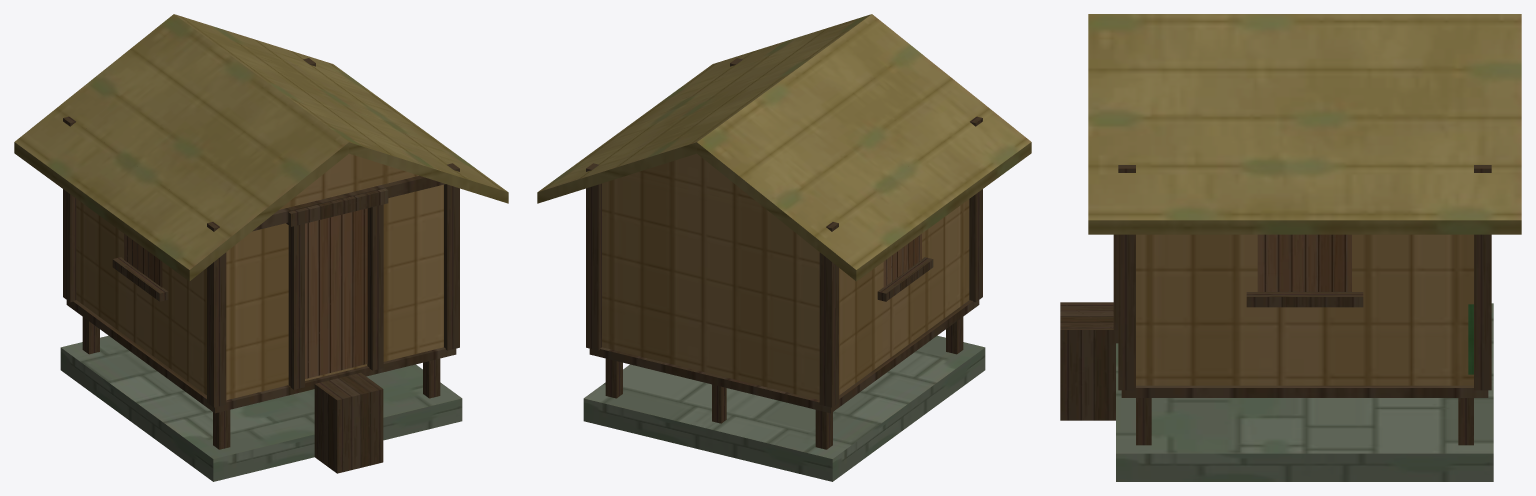
Rendered from ae_jungle_wood_small_hut_lod0.glb.
3 views of the same model, side by side, from view 1: azimuth 30°, elevation 25°; view 2: azimuth 150°, elevation 25°; view 3: azimuth 270°, elevation 25° (orthographic). The views are drawn at different scales.
Parts seen in each view (by area): view 1: ae_jungle_wood_small_hut_lod0; view 2: ae_jungle_wood_small_hut_lod0; view 3: ae_jungle_wood_small_hut_lod0.
Boxes of the visible parts, bbox=[...] form: ae_jungle_wood_small_hut_lod0: bbox=[14, 14, 508, 481]; ae_jungle_wood_small_hut_lod0: bbox=[537, 14, 1031, 481]; ae_jungle_wood_small_hut_lod0: bbox=[1060, 14, 1521, 481].
Size of the model in its own units: 4.1 by 3.9 by 4.15.
1 material, 1 textured.
